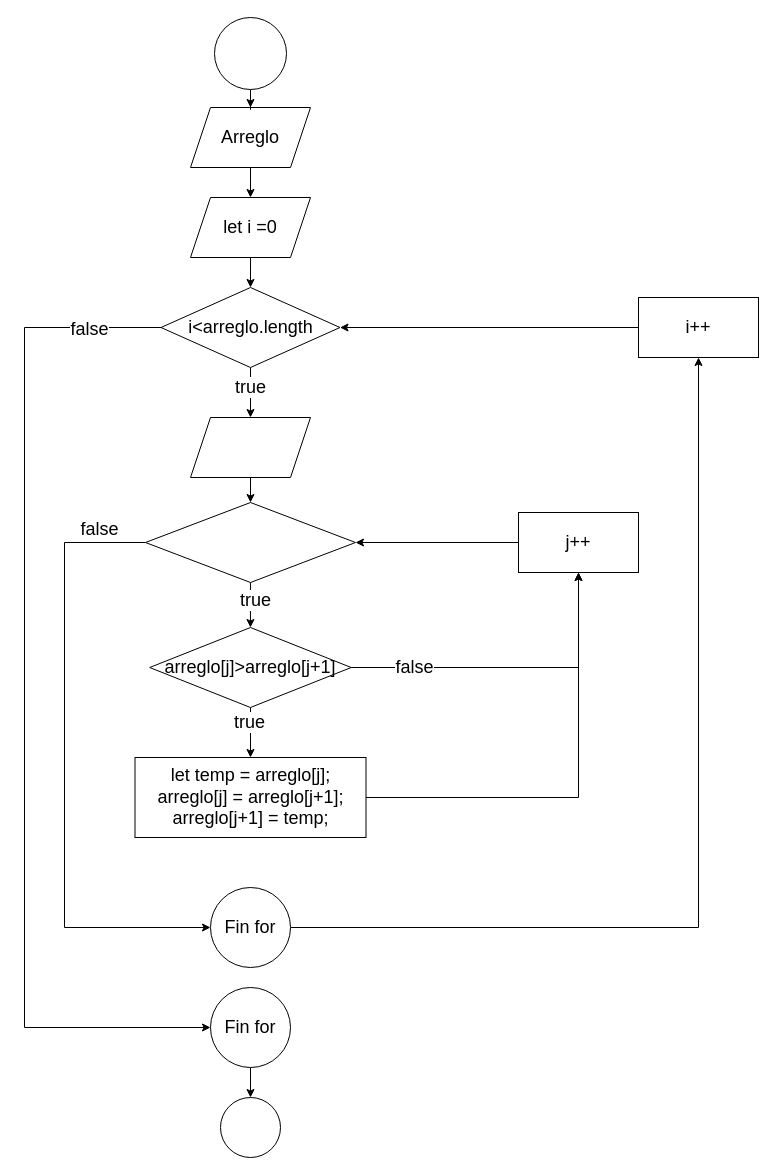
Some shapes in this 776 by 1175 pixel diagram are drawn without their labels. Here are the shapes that lost their labels. From the top down, the centre of each, then its label:
At pixel 250 53: "Inicio".
At pixel 250 447: "let j =0".
At pixel 250 542: "j< (arreglo.length)-i".
At pixel 250 1127: "Fin".
